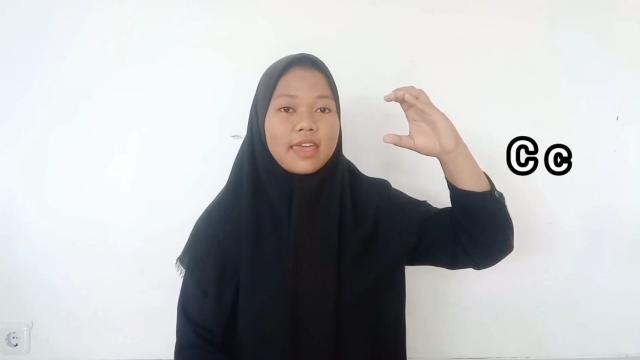C: (382, 84, 461, 158)
